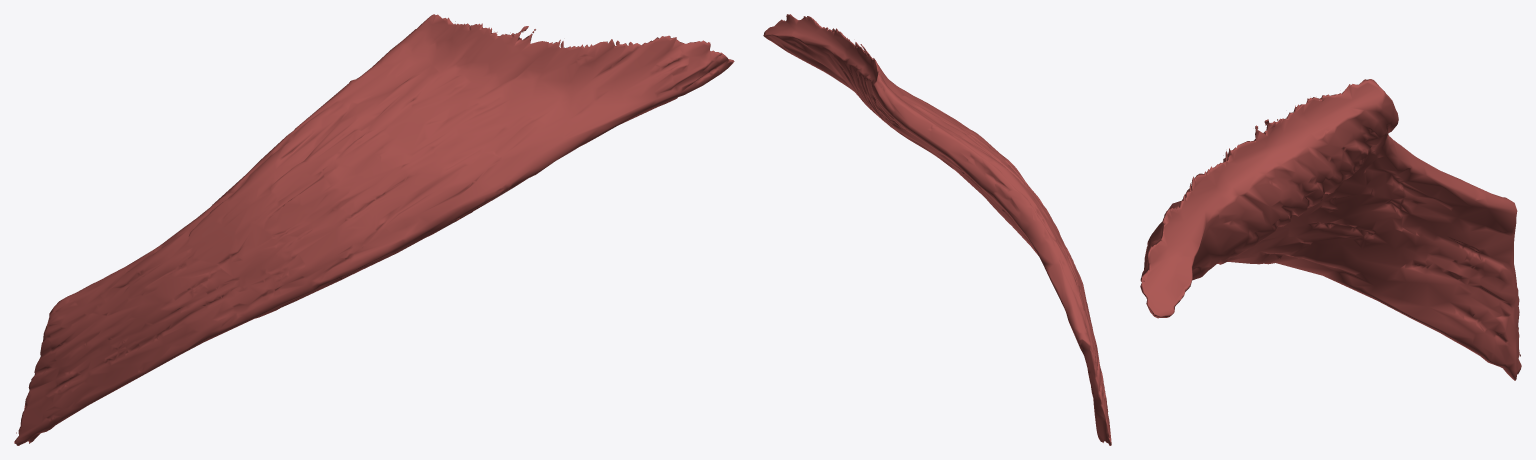
Rendered from FMA34690.glb.
3 views of the same model, side by side, from view 1: azimuth 30°, elevation 25°; view 2: azimuth 150°, elevation 25°; view 3: azimuth 270°, elevation 25° (orthographic). The views are drawn at different scales.
Visible parts, largest first — view 1: FMA34690; view 2: FMA34690; view 3: FMA34690.
Part boxes in pixels (bbox=[...]): FMA34690: bbox=[14, 14, 734, 445]; FMA34690: bbox=[763, 14, 1111, 445]; FMA34690: bbox=[1140, 79, 1521, 380].
Bounding box in the file's own units: 0.1683 × 0.1027 × 0.0635.
